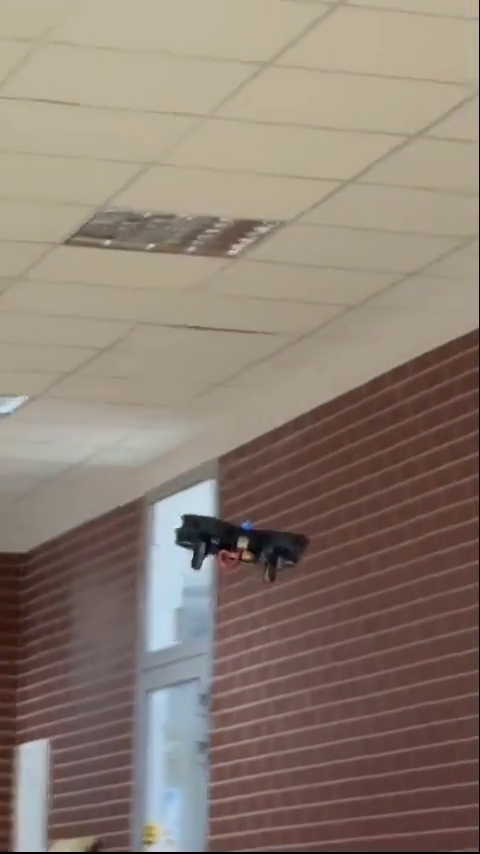drone: (176, 512, 309, 578)
